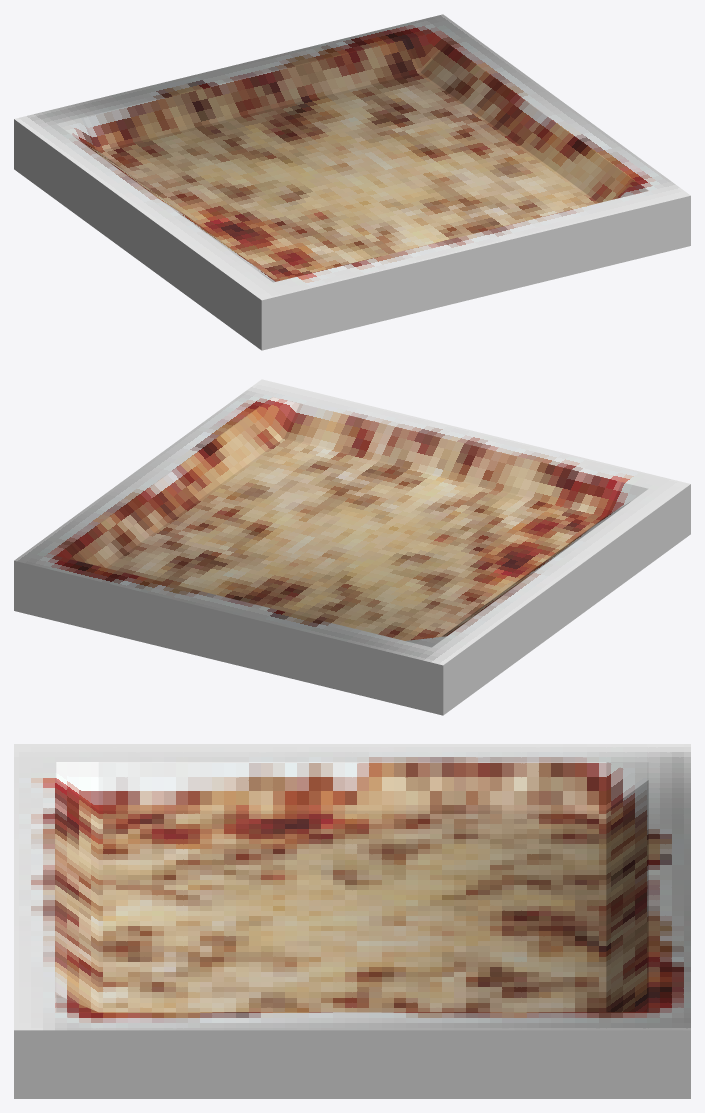
File: pizza.glb
3 views of the same model, one above another, from view 1: azimuth 30°, elevation 25°; view 2: azimuth 150°, elevation 25°; view 3: azimuth 270°, elevation 25° (orthographic). The views are drawn at different scales.
Visible parts, largest first — view 1: Cube; view 2: Cube; view 3: Cube.
Part boxes in pixels (x1,y1,x2,y2): Cube: [14, 14, 690, 350]; Cube: [14, 379, 690, 715]; Cube: [14, 744, 690, 1098].
Bounding box in the file's own units: 2 × 0.2238 × 2.
2 materials, 1 textured.
